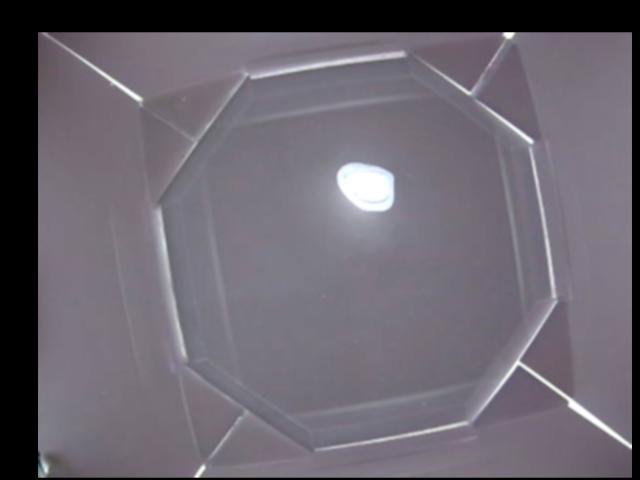Pebble: (336, 159, 393, 209)
